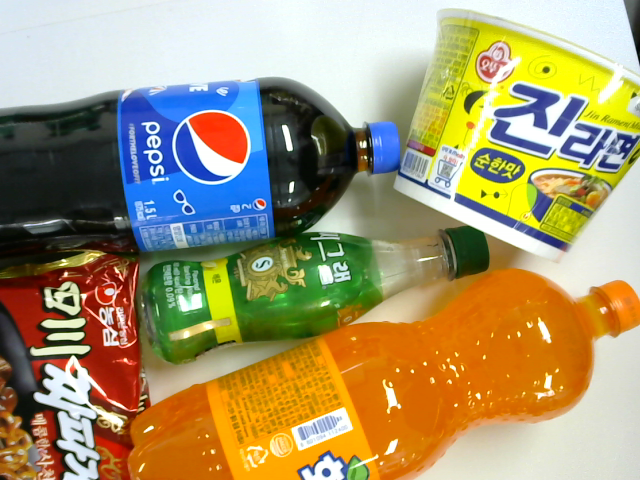Hwanta_Orange_1.5L: (102, 267, 626, 480)
Jinlamyeon_Mild_Taste_Large_Cup: (380, 26, 629, 239)
Pepsi_Cola_1.5L: (1, 101, 365, 223)
Seagram_Lemon_Carbonated_Water: (130, 220, 502, 366)
Sichuan_Chapaghetti: (1, 246, 152, 476)
